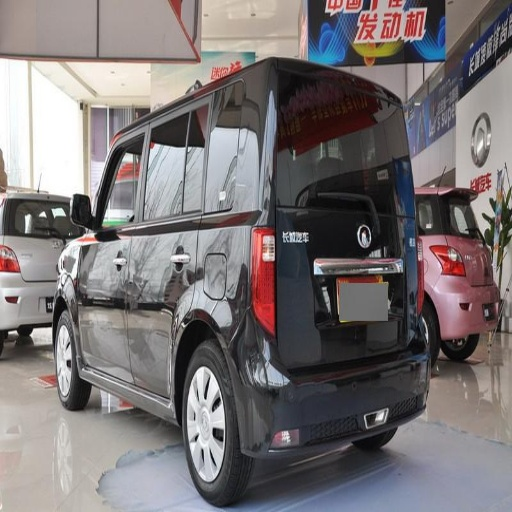back_left_door: (128, 109, 244, 396)
trunk: (278, 195, 426, 383), (215, 228, 241, 290)
